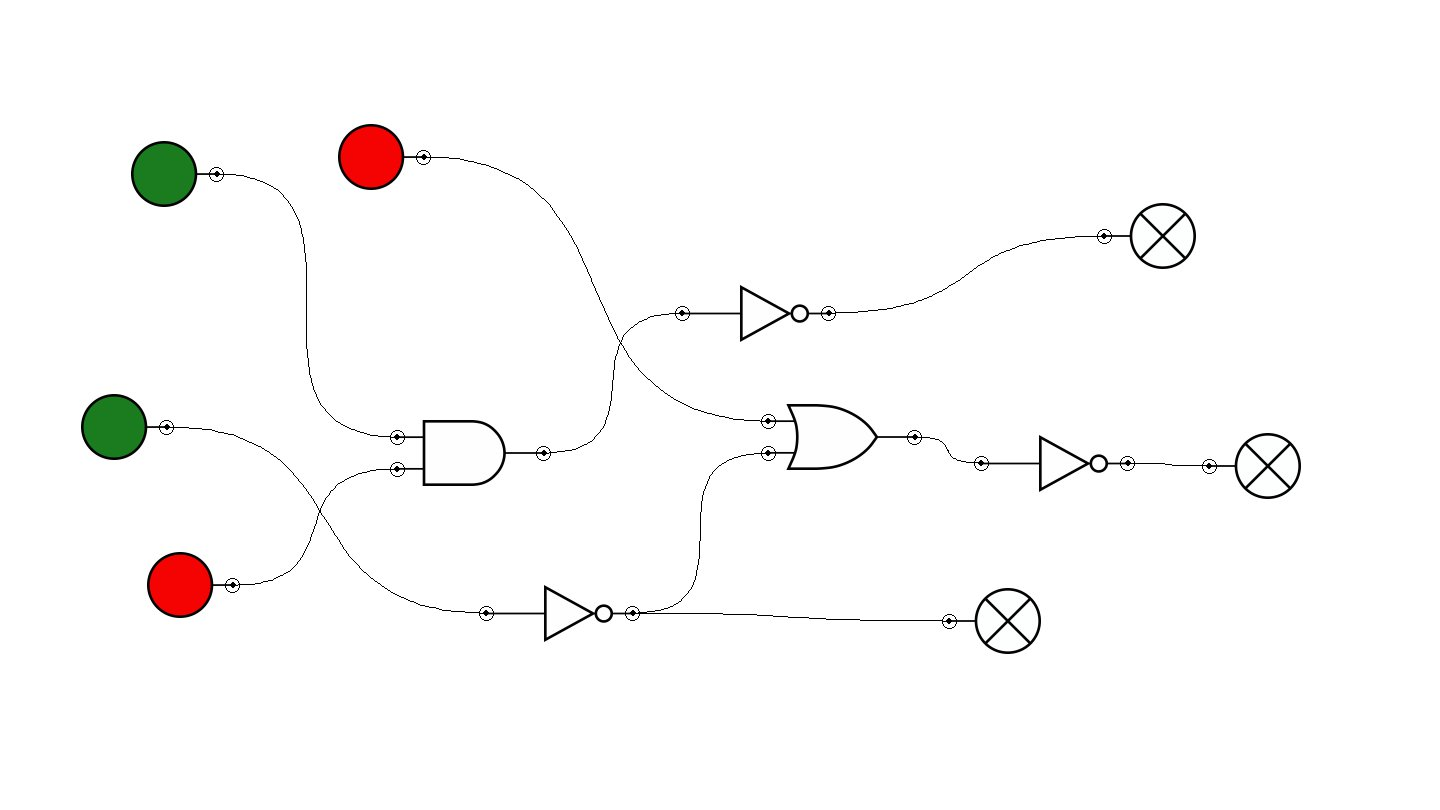and: (390, 420, 551, 486)
bulb: (942, 588, 1041, 654), (1097, 203, 1196, 269), (1202, 433, 1301, 499)
not: (974, 435, 1135, 492), (675, 285, 836, 342), (479, 585, 640, 642)
or: (761, 404, 922, 470)
switch_False: (147, 552, 240, 618), (338, 124, 431, 190)
switch_True: (81, 394, 174, 460), (131, 141, 224, 207)
